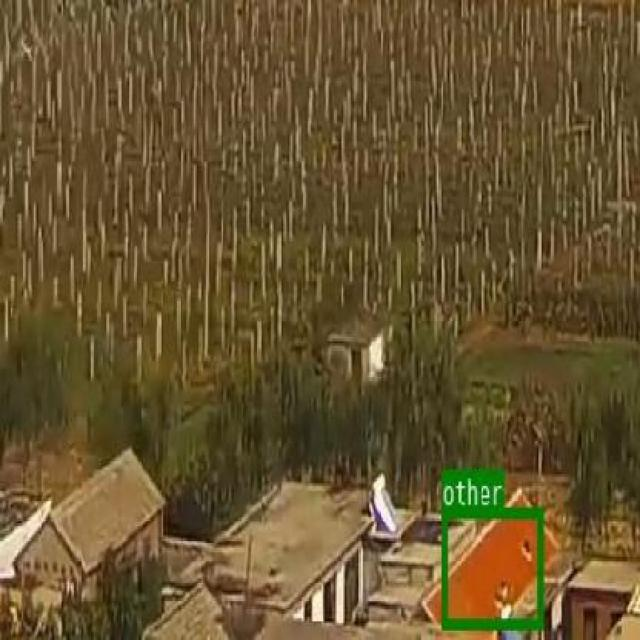other: (440, 505, 542, 627)
